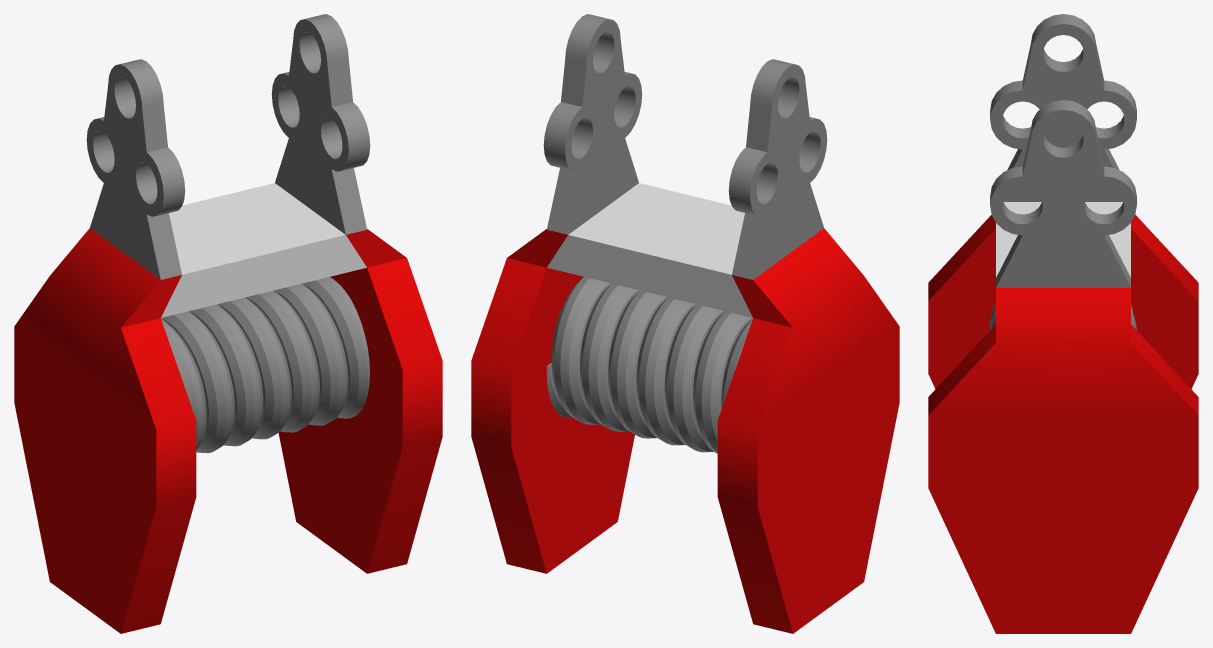
Rendered from crane_X_axis_movement_mount.fbx.
3 renders of one model, left to right at view 1: azimuth 30°, elevation 25°; view 2: azimuth 150°, elevation 25°; view 3: azimuth 270°, elevation 25°, orthographic. The views are drawn at different scales.
Visible parts, largest first — view 1: polySurface116; view 2: polySurface116; view 3: polySurface116.
Boxes of the visible parts, bbox=[...] form: polySurface116: bbox=[14, 14, 442, 633]; polySurface116: bbox=[471, 14, 899, 633]; polySurface116: bbox=[928, 14, 1198, 633].
Bounding box in the file's own units: 1.16 × 2.06 × 1.
